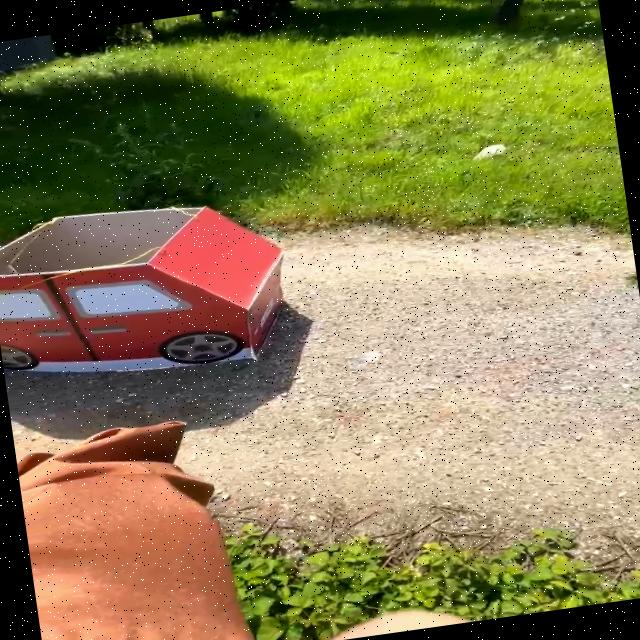red_car: (0, 166, 337, 427)
